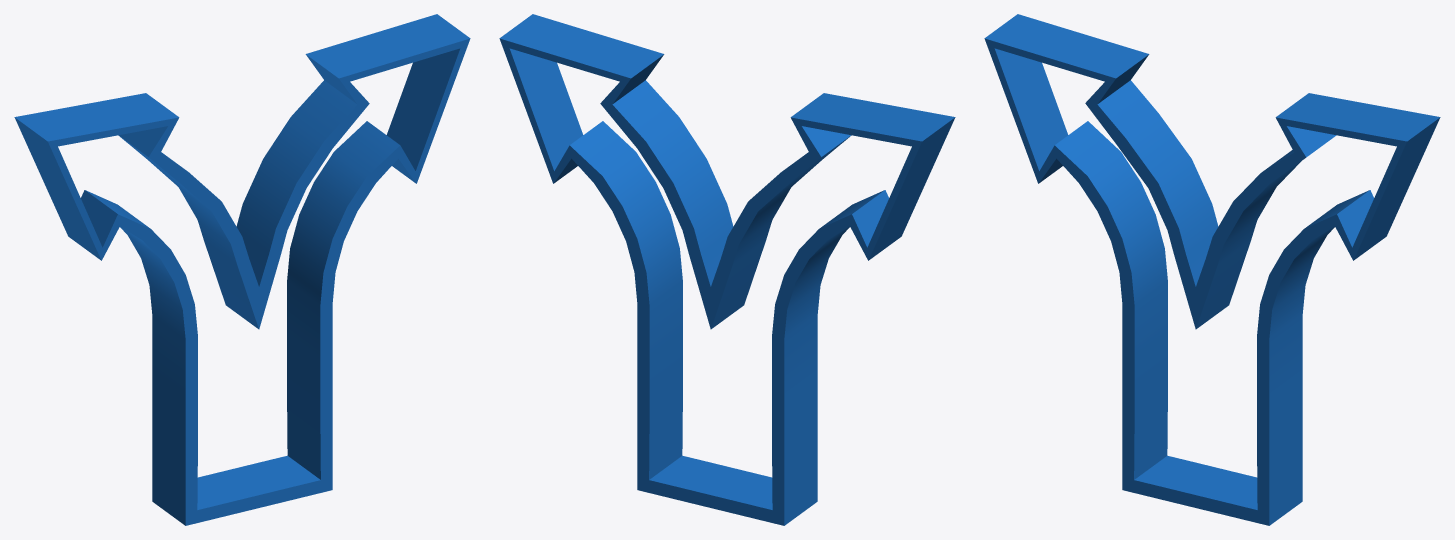
Rendered from Arrow_37.obj.
The picture shows the model from 3 angles, left to right: view 1: azimuth 30°, elevation 25°; view 2: azimuth 150°, elevation 25°; view 3: azimuth 330°, elevation 25°; orthographic projection.
Visible parts, largest first — view 1: Arrow_37; view 2: Arrow_37; view 3: Arrow_37.
Part boxes in pixels (<box>): Arrow_37: <box>14,14,470,525</box>; Arrow_37: <box>499,14,955,525</box>; Arrow_37: <box>984,14,1440,525</box>.
Size of the model in its own units: 2.86 by 2.7 by 0.3909.
